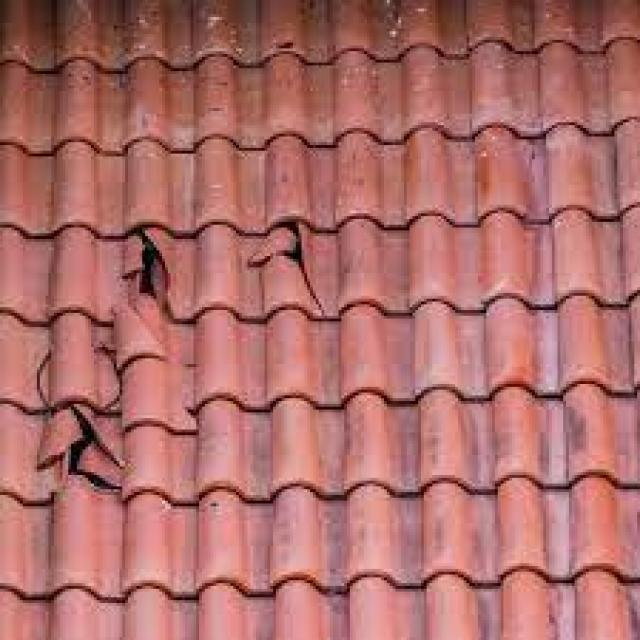damage: (26, 338, 159, 517), (247, 204, 336, 321), (104, 225, 181, 330)
